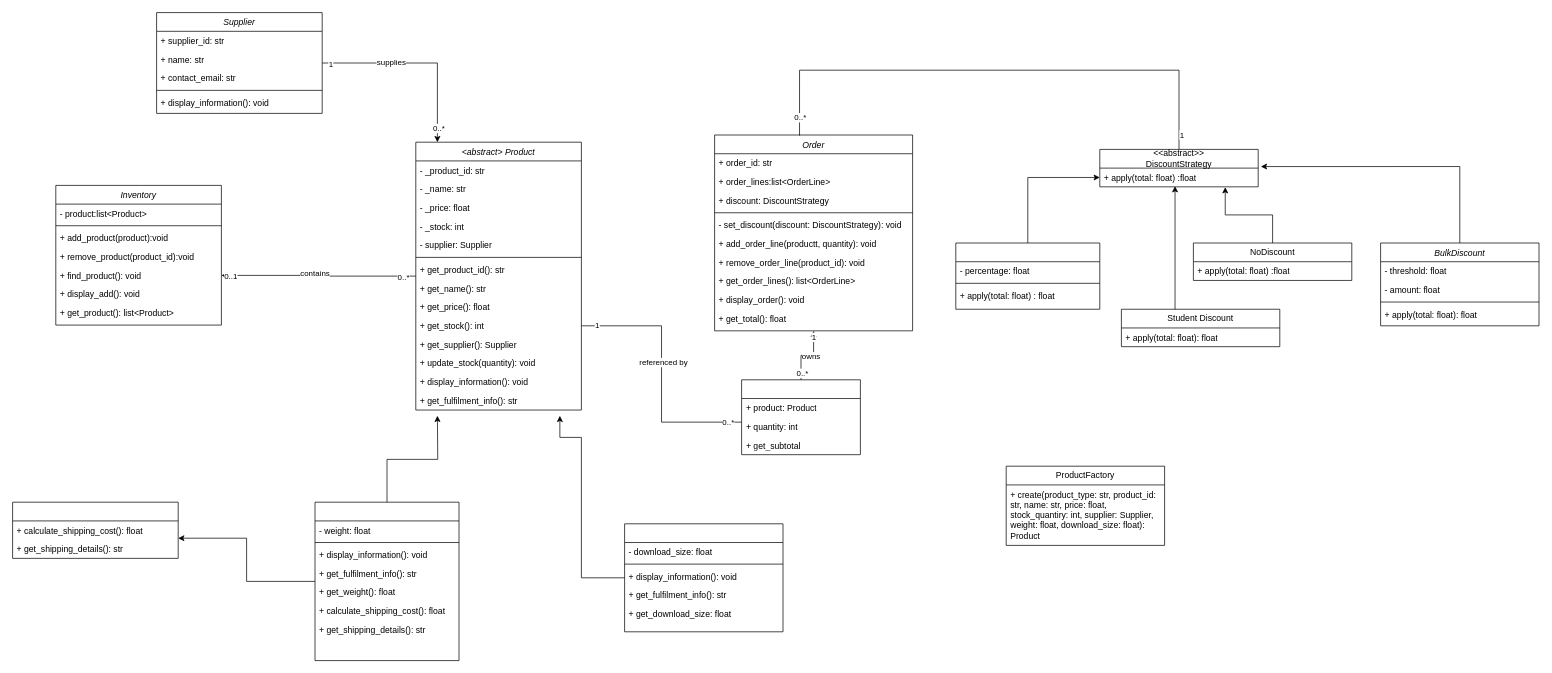
This 1552x673 diagram has some shape labels left out. Here are the shapes that lost their labels. From the top down, the box of each, then its label:
(955, 242, 1100, 309): PercentageDiscount
(741, 379, 860, 455): OrderLine
(12, 501, 178, 558): CanBeShipped
(314, 501, 459, 661): PhysicalProduct
(624, 523, 783, 632): DigitalProduct
